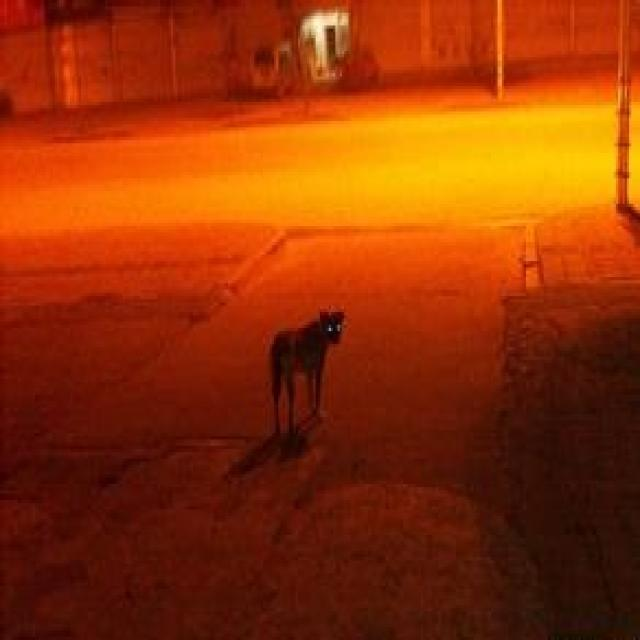dog: (258, 300, 358, 438)
